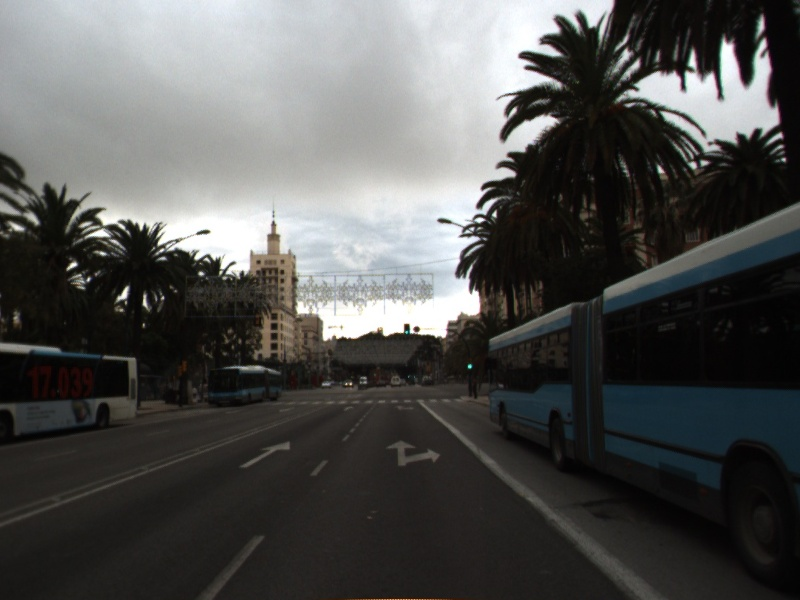STRAIGHT: (237, 439, 293, 470), (341, 404, 356, 413)
STRAIGHT_RIGHT: (383, 438, 443, 468), (391, 403, 416, 412)
